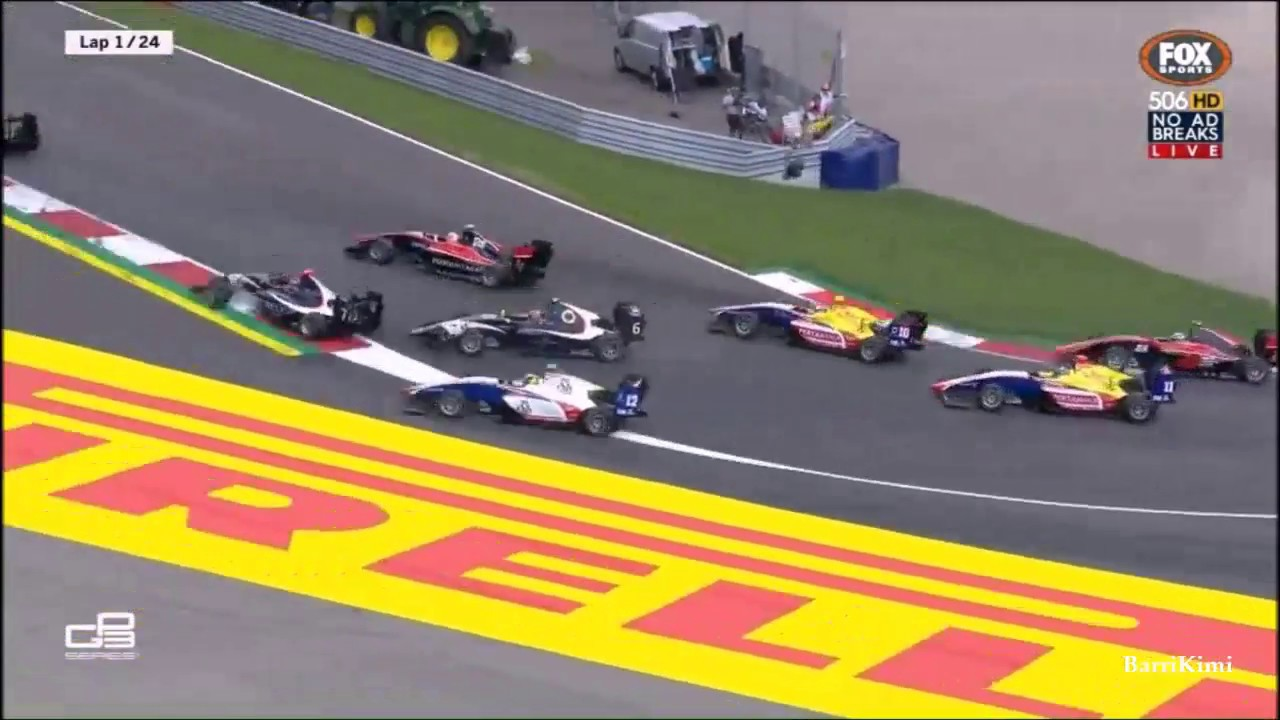race car: (397, 358, 650, 441), (927, 352, 1182, 432), (702, 285, 933, 372), (1044, 314, 1277, 393), (185, 261, 386, 352), (408, 293, 646, 367), (341, 219, 553, 297)
